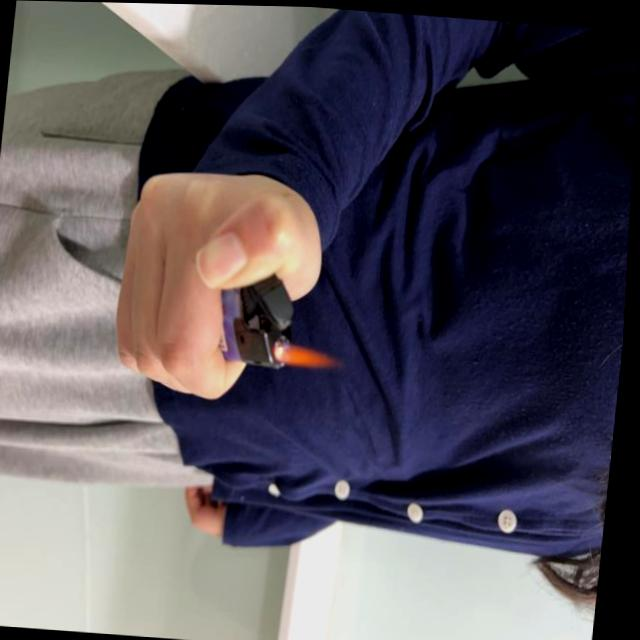Fire: (277, 337, 355, 372)
